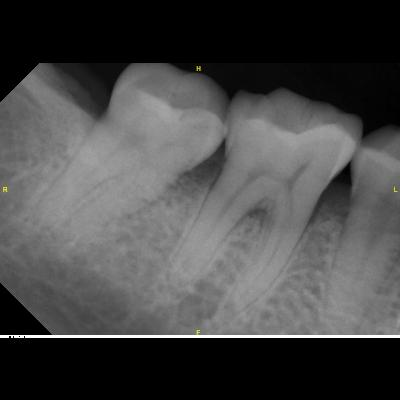tooth: (322, 122, 400, 334)
